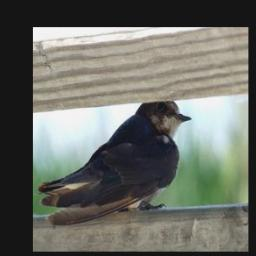Swallow: (37, 99, 192, 226)
